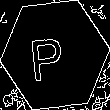P_N: (36, 28, 74, 82)
